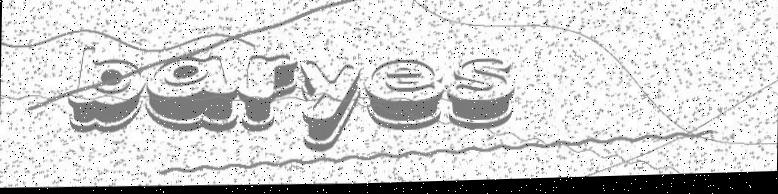a: (146, 53, 238, 138)
b: (65, 43, 146, 135)
e: (362, 59, 443, 134)
r: (237, 55, 299, 135)
s: (446, 58, 516, 134)
y: (297, 57, 362, 155)
